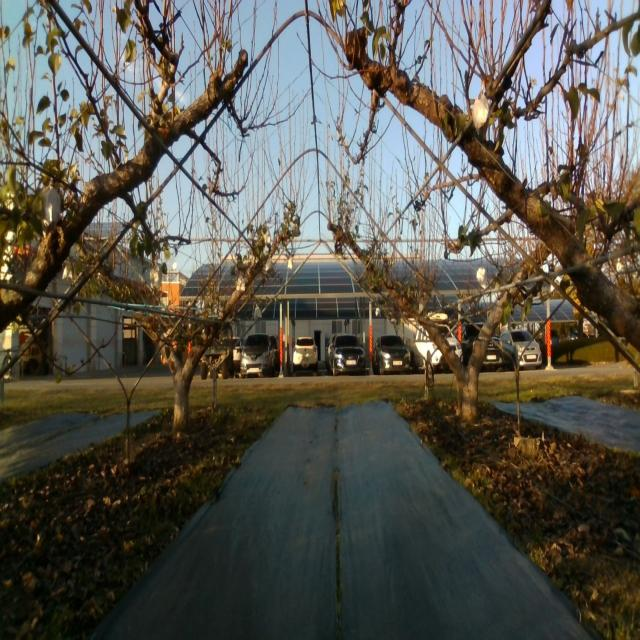pearbags: (42, 186, 61, 225), (473, 94, 489, 136), (150, 266, 162, 290), (477, 266, 487, 288)
